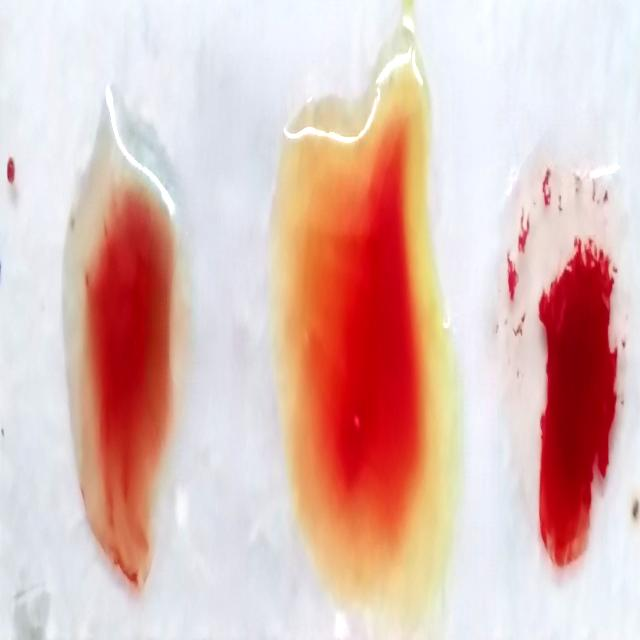D: (524, 167, 637, 591)
